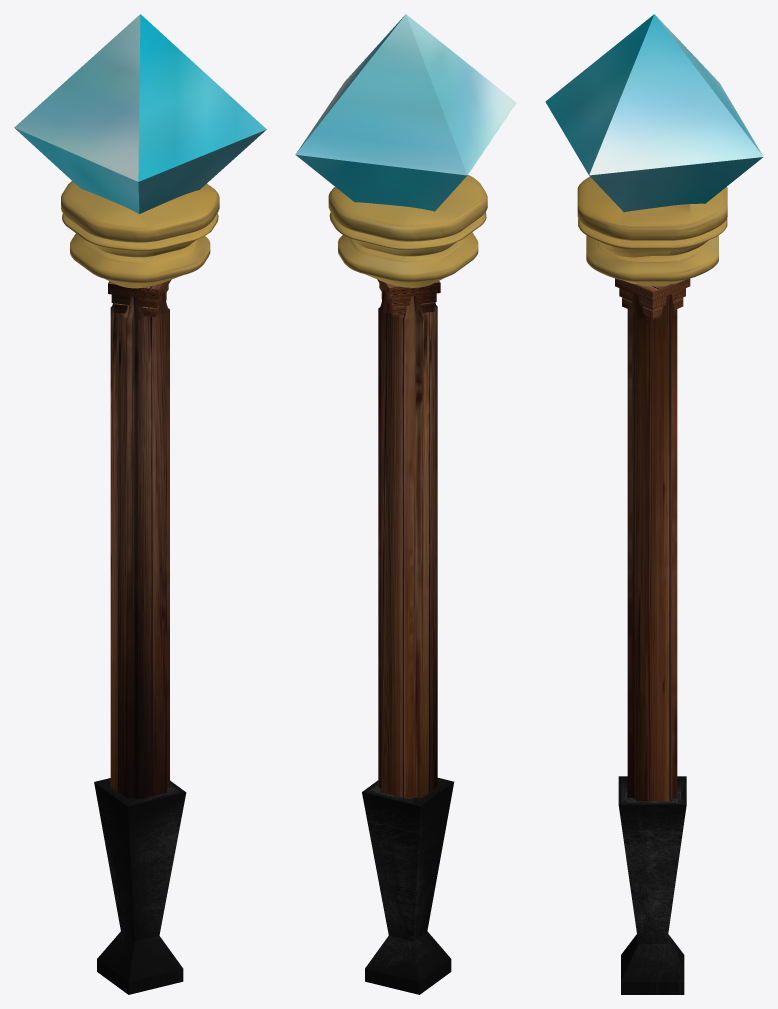
The model's file is scepter.gltf.
3 renders of one model, left to right at view 1: azimuth 30°, elevation 25°; view 2: azimuth 150°, elevation 25°; view 3: azimuth 270°, elevation 25°, orthographic.
Visible parts, largest first — view 1: Cube.002_2, Cube_0, Cube.007_7, Cube.001_1, Cube.005_5; view 2: Cube.002_2, Cube_0, Cube.007_7, Cube.001_1, Cube.005_5; view 3: Cube_0, Cube.002_2, Cube.001_1, Cube.007_7, Cube.005_5, Cube.004_4.
Boxes of the visible parts, x1,y1,x2,y2 form: Cube.002_2: (110, 290, 169, 799); Cube_0: (14, 14, 266, 213); Cube.007_7: (94, 778, 186, 994); Cube.001_1: (61, 181, 219, 288); Cube.005_5: (108, 279, 171, 299); Cube.002_2: (378, 290, 437, 799); Cube_0: (295, 14, 516, 211); Cube.007_7: (362, 778, 454, 994); Cube.001_1: (328, 175, 487, 287); Cube.005_5: (377, 279, 440, 298); Cube_0: (545, 14, 763, 212); Cube.002_2: (627, 294, 677, 801); Cube.001_1: (577, 177, 727, 286); Cube.007_7: (618, 776, 686, 994); Cube.005_5: (615, 278, 690, 301); Cube.004_4: (619, 288, 685, 310).
Bounding box in the file's own units: 2.11 × 10.33 × 2.11.
Materials: 5 (4 with a texture image).
